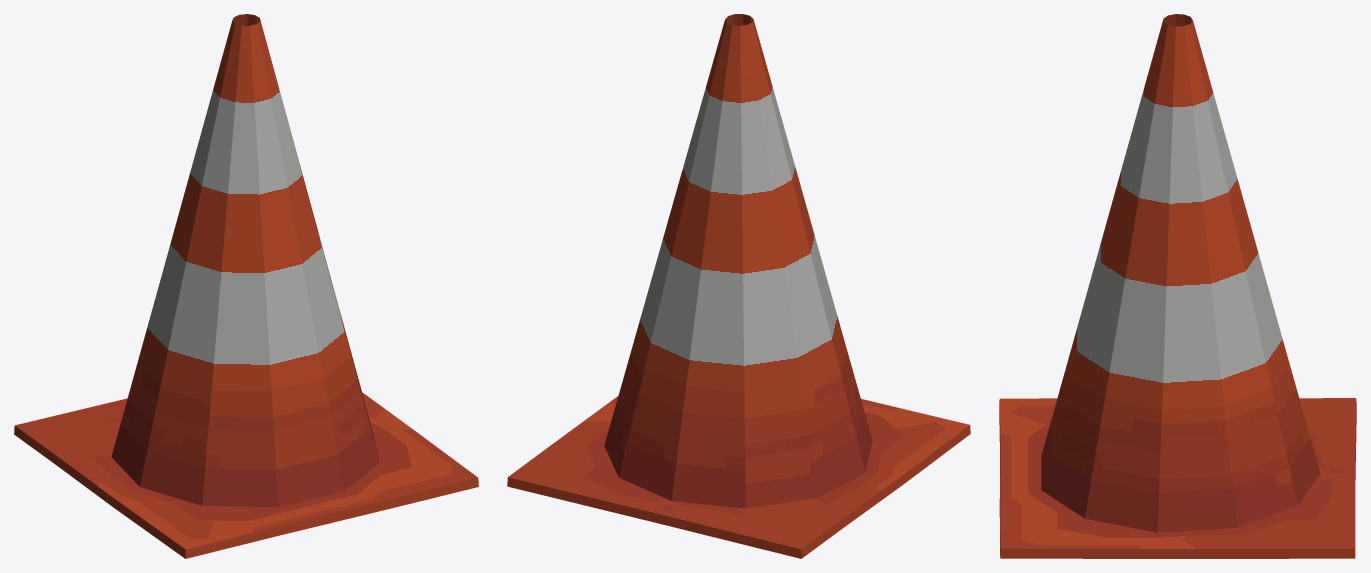
The model's file is Traffic cone.fbx.
The picture shows the model from 3 angles, left to right: view 1: azimuth 30°, elevation 25°; view 2: azimuth 150°, elevation 25°; view 3: azimuth 270°, elevation 25°; orthographic projection. The views are drawn at different scales.
Parts seen in each view (by area): view 1: Cylinder; view 2: Cylinder; view 3: Cylinder.
Part boxes in pixels (box(x1,y1,x2,y2)): Cylinder: box(14, 14, 478, 558); Cylinder: box(507, 14, 970, 558); Cylinder: box(999, 14, 1356, 558).
Size of the model in its own units: 141 by 200 by 140.
1 material, 1 textured.
